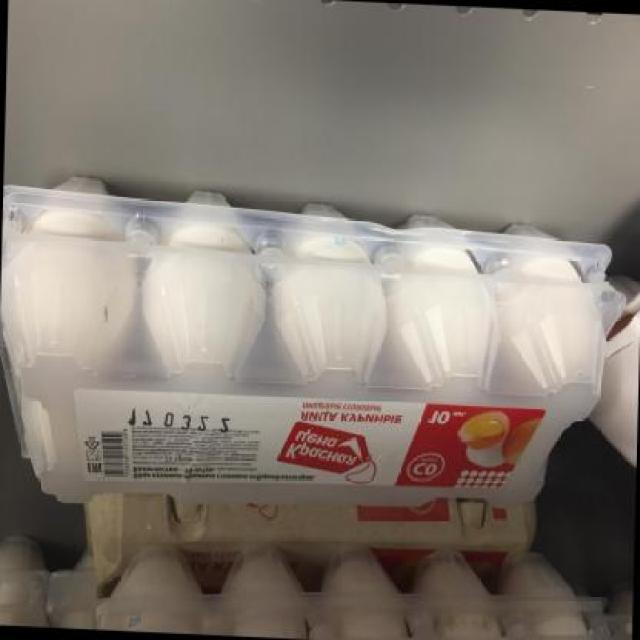egg: (0, 167, 628, 527)
